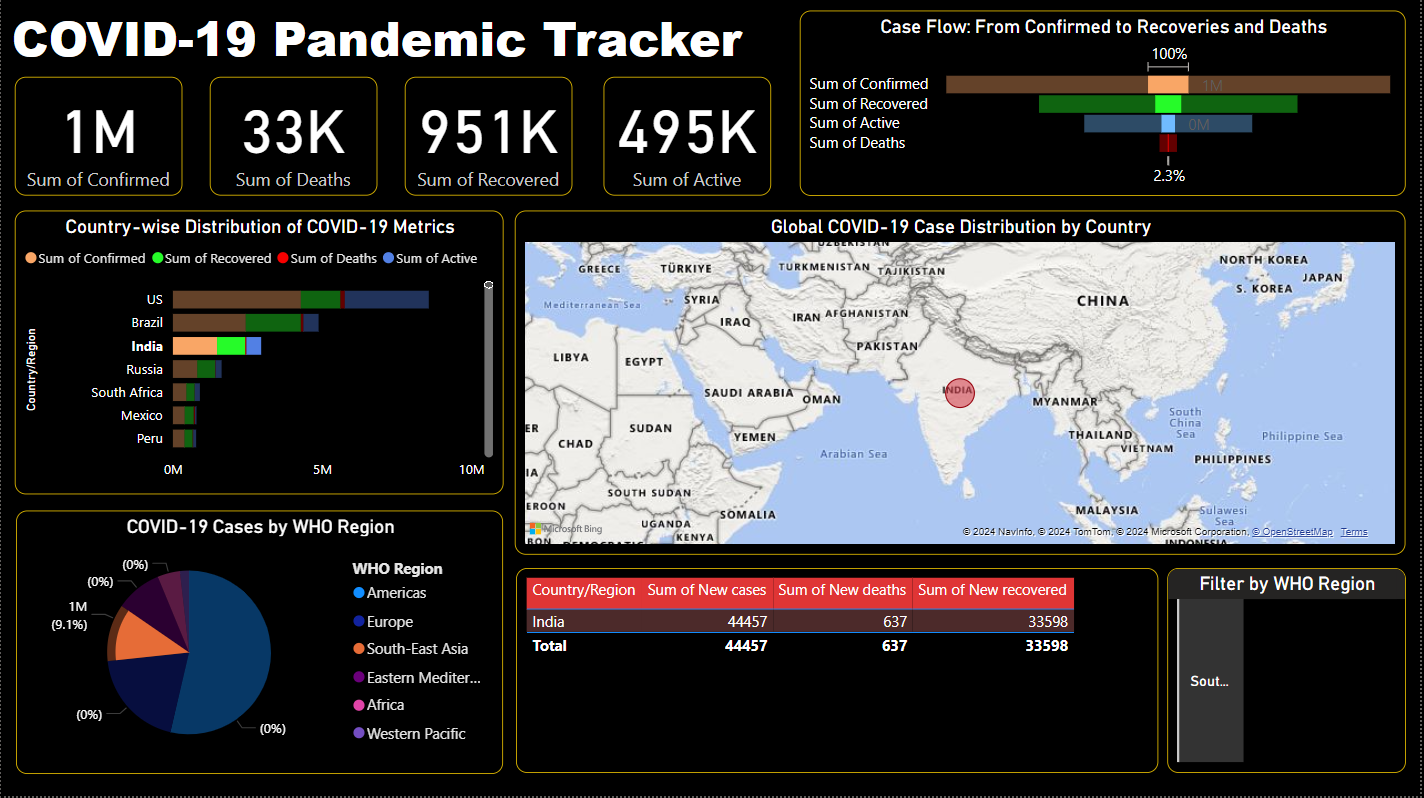

The dashboard page shown, as its layout file describes it:
{"tool":"powerbi","page":{"name":"Page 1","canvas":[1280,720],"ordinal":0},"visuals":[{"type":"textbox","box":[0,0,677.4,70.9],"z":0},{"type":"card","fields":{"Values":["Sum(country_wise_latest.Confirmed)"]},"box":[12.5,71.1,150.8,107.2],"z":1000},{"type":"card","fields":{"Values":["Sum(country_wise_latest.Deaths)"]},"box":[188.2,71.1,150.8,107.2],"z":2000},{"type":"card","fields":{"Values":["Sum(country_wise_latest.Recovered)"]},"box":[364,71.1,150.8,107.2],"z":3000},{"type":"card","fields":{"Values":["Sum(country_wise_latest.Active)"]},"box":[543.5,71.1,150.8,107.2],"z":4000},{"type":"map","title":"Global COVID-19 Case Distribution by Country","fields":{"Category":["country_wise_latest.Country/Region"],"Size":["Sum(country_wise_latest.Confirmed)"]},"box":[463.5,192,803.4,310.6],"z":5000},{"type":"barChart","title":"Country-wise Distribution of COVID-19 Metrics","fields":{"Category":["country_wise_latest.Country/Region"],"Y":["Sum(country_wise_latest.Confirmed)","Sum(country_wise_latest.Recovered)","Sum(country_wise_latest.Deaths)","Sum(country_wise_latest.Active)"]},"box":[12.8,191.9,440.7,255.8],"z":6000},{"type":"pieChart","title":"COVID-19 Cases by WHO Region","fields":{"Category":["country_wise_latest.WHO Region"],"Y":["Sum(country_wise_latest.Confirmed)"]},"box":[14,461.6,439.5,237.2],"z":7000},{"type":"tableEx","fields":{"Values":["country_wise_latest.Country/Region","Sum(country_wise_latest.New cases)","Sum(country_wise_latest.New deaths)","Sum(country_wise_latest.New recovered)"]},"box":[464,514,579.1,184.9],"z":8000},{"type":"funnel","title":"Case Flow: From Confirmed to Recoveries and Deaths","fields":{"Y":["Sum(country_wise_latest.Confirmed)","Sum(country_wise_latest.Recovered)","Sum(country_wise_latest.Active)","Sum(country_wise_latest.Deaths)"]},"box":[720.2,11,546.6,167.5],"z":9000},{"type":"advancedSlicerVisual","title":"Filter by WHO Region","fields":{"Values":["country_wise_latest.WHO Region"]},"box":[1051.2,514,215.1,184.9],"z":10000}]}

Visuals, with their boxes in screenshot pixels (x1, y1, x2, y2), scaled from the page's 1280x720 canvas onto the 1424x798 screenshot:
textbox: select_region(0, 0, 754, 79)
card - Sum(country_wise_latest.Confirmed): select_region(14, 79, 182, 198)
card - Sum(country_wise_latest.Deaths): select_region(209, 79, 377, 198)
card - Sum(country_wise_latest.Recovered): select_region(405, 79, 573, 198)
card - Sum(country_wise_latest.Active): select_region(605, 79, 772, 198)
"Global COVID-19 Case Distribution by Country" map: select_region(516, 213, 1409, 557)
"Country-wise Distribution of COVID-19 Metrics" barChart: select_region(14, 213, 505, 496)
"COVID-19 Cases by WHO Region" pieChart: select_region(16, 512, 505, 775)
tableEx - country_wise_latest.Country/Region x Sum(country_wise_latest.New cases): select_region(516, 570, 1160, 775)
"Case Flow: From Confirmed to Recoveries and Deaths" funnel: select_region(801, 12, 1409, 198)
"Filter by WHO Region" advancedSlicerVisual: select_region(1169, 570, 1409, 775)
